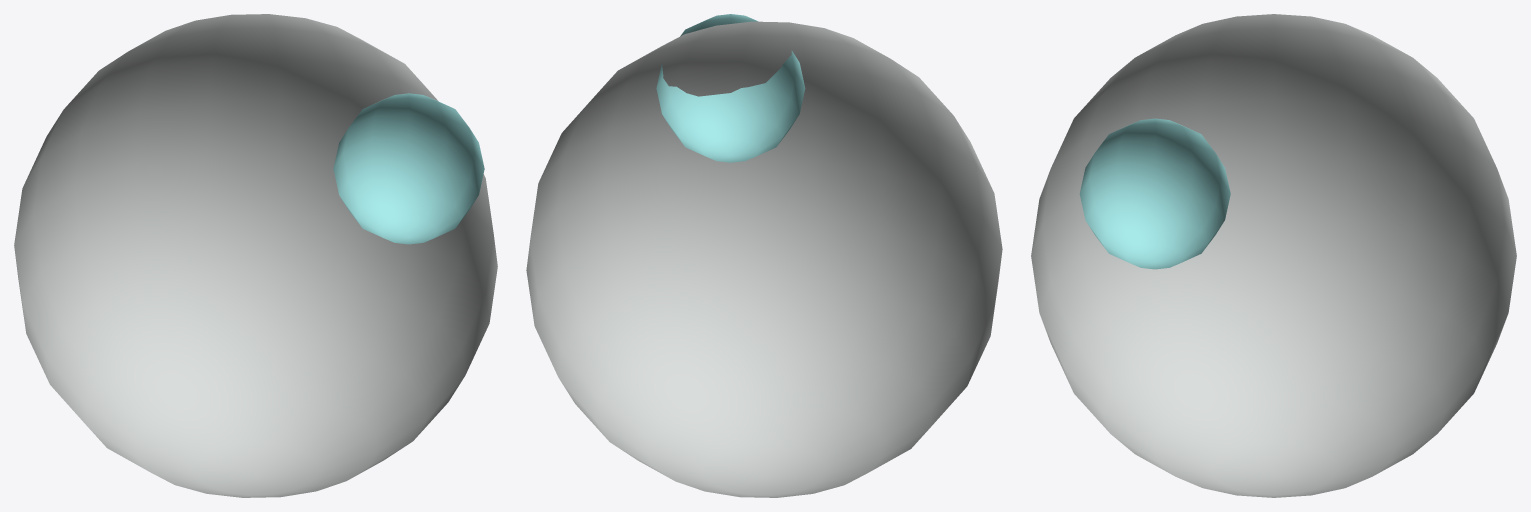
The model's file is ca_ion.glb.
The picture shows the model from 3 angles, left to right: view 1: azimuth 30°, elevation 25°; view 2: azimuth 150°, elevation 25°; view 3: azimuth 270°, elevation 25°; orthographic projection.
Visible parts, largest first — view 1: CalciumCore, CalciumSoftHighlight; view 2: CalciumCore, CalciumSoftHighlight; view 3: CalciumCore, CalciumSoftHighlight.
Part boxes in pixels (<box>): CalciumCore: <box>14,14,497,497</box>; CalciumSoftHighlight: <box>333,93,484,244</box>; CalciumCore: <box>526,21,1002,497</box>; CalciumSoftHighlight: <box>656,14,805,162</box>; CalciumCore: <box>1031,14,1516,497</box>; CalciumSoftHighlight: <box>1079,118,1230,269</box>.
Size of the model in its own units: 0.045 by 0.045 by 0.045.
